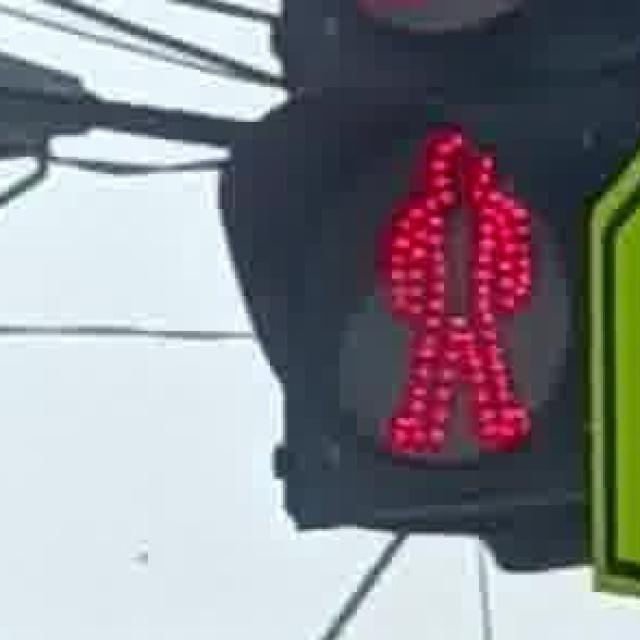red_light: (359, 102, 549, 460)
